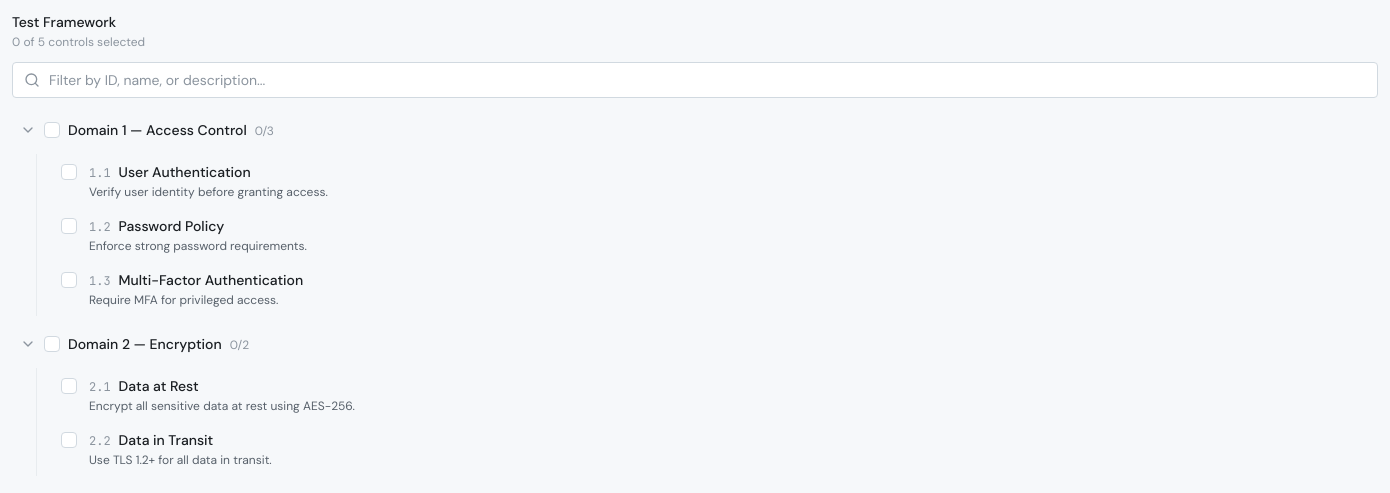
Test: ControlSelector › domain collapse › expands domain controls when clicking chevron again
The image size is (1390, 493).
Click the button named "Collapse Domain 1 — Access Control". click: click(28, 130)
box: x1=20 y1=122 x2=36 y2=138
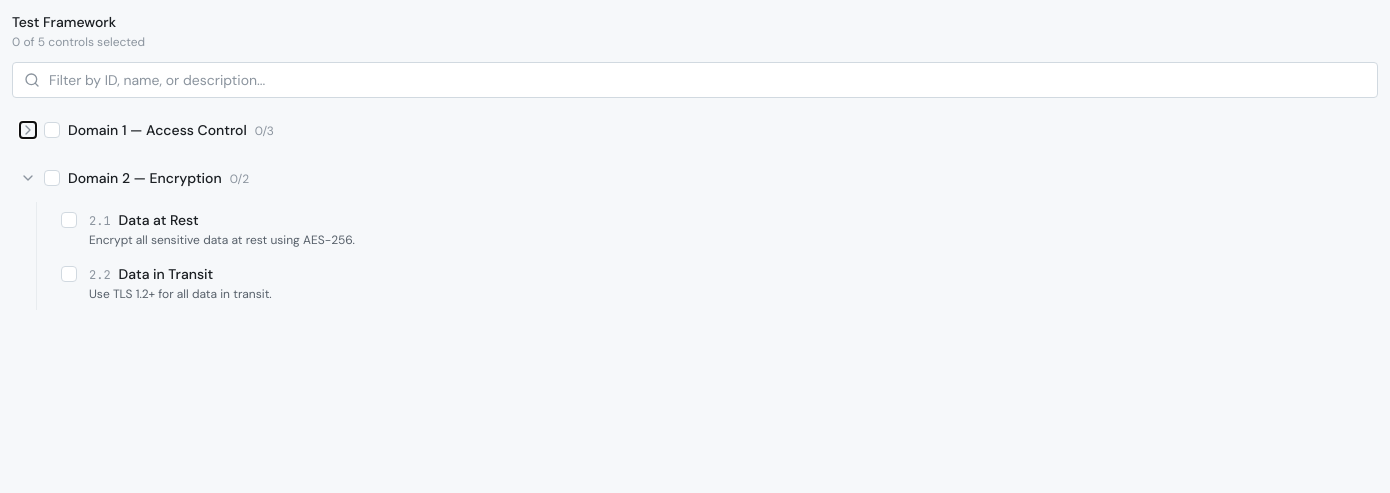
Expected: the text "User Authentication" is gone
Click the button named "Expand Domain 1 — Access Control". click: click(28, 130)
box: x1=20 y1=122 x2=36 y2=138
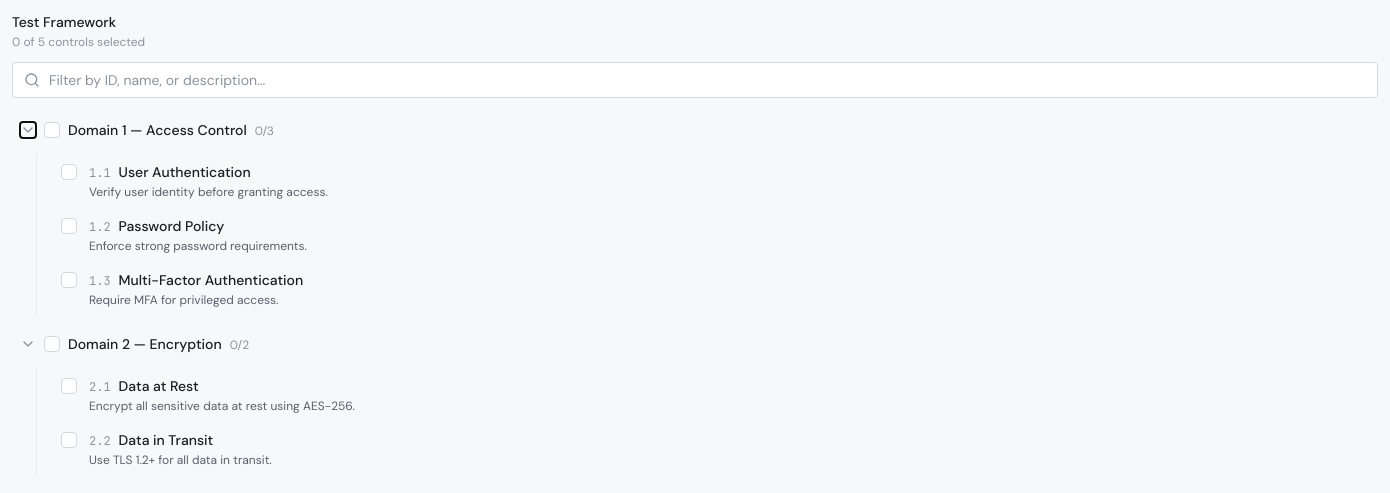
Expected: the text "User Authentication" is shown, x1=119 y1=162 x2=251 y2=182
